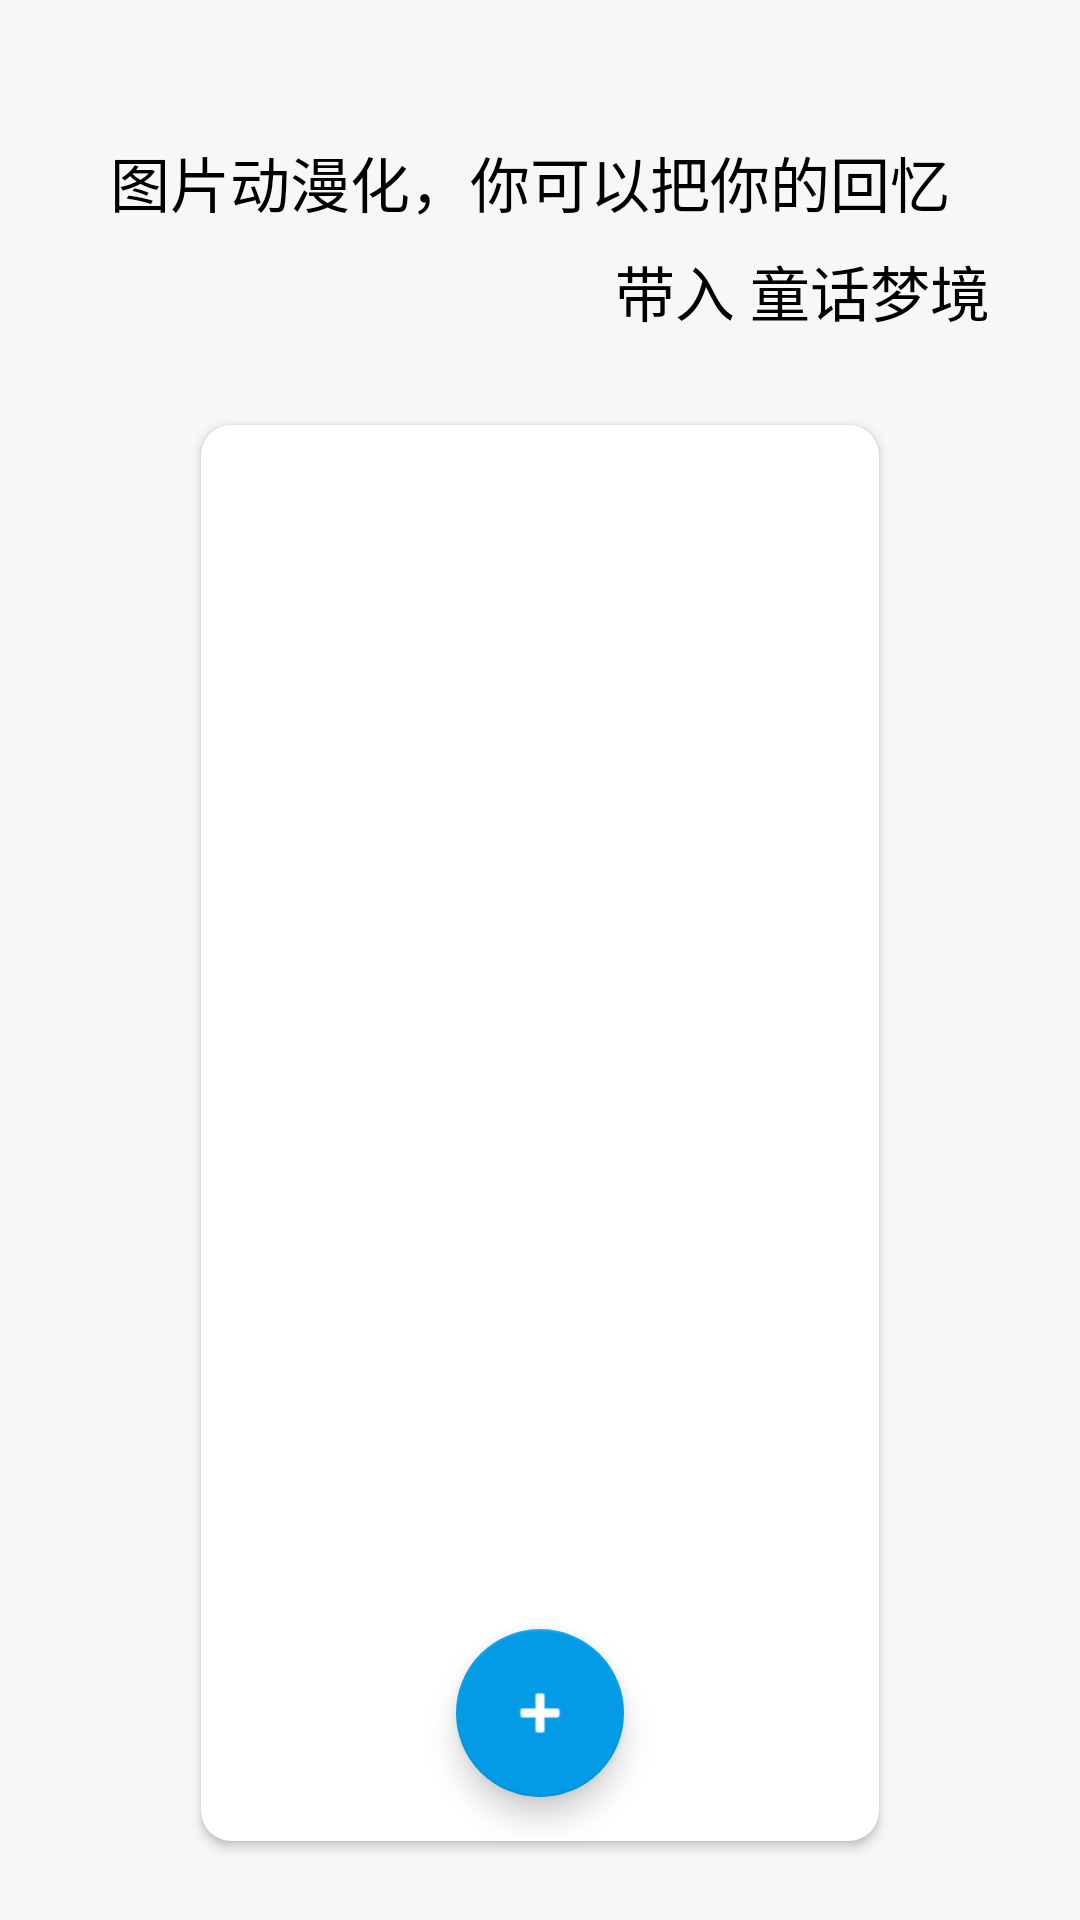

Icons on this 1080w x 1920h Android screen, each with its box as {"left": x1, "top": y1, "right": x2, "bottom": y2}:
上传图片: {"left": 456, "top": 1629, "right": 624, "bottom": 1797}
